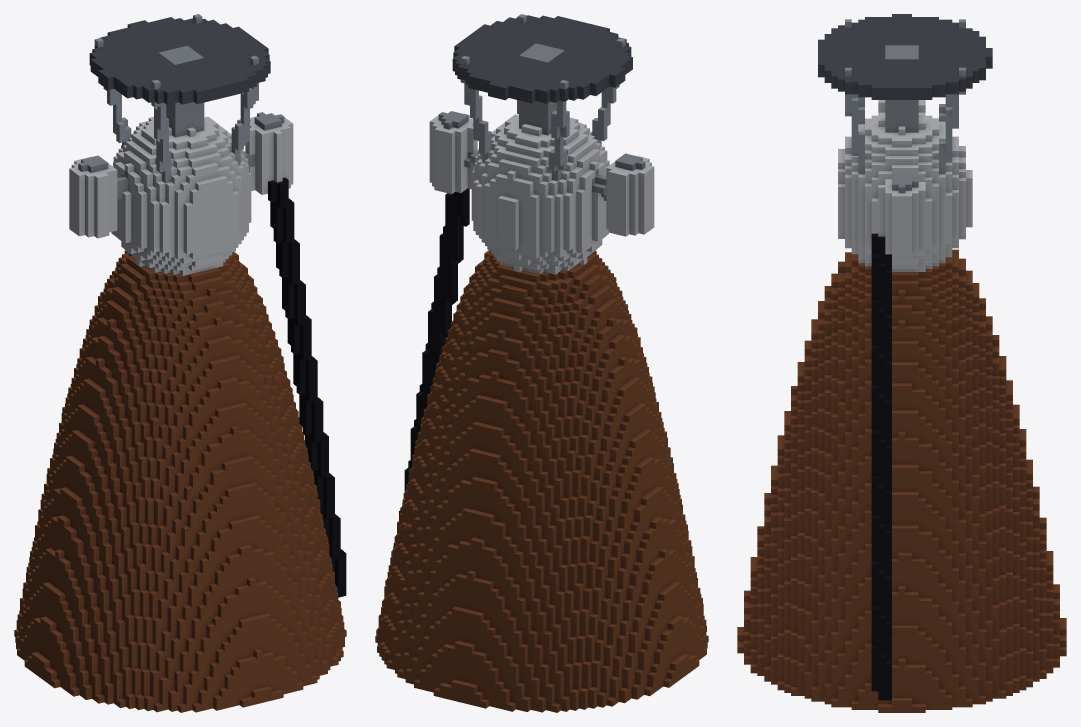
File: eng_hidra_68.glb
The picture shows the model from 3 angles, left to right: view 1: azimuth 30°, elevation 25°; view 2: azimuth 150°, elevation 25°; view 3: azimuth 270°, elevation 25°; orthographic projection.
Visible parts, largest first — view 1: eng_hidra_68; view 2: eng_hidra_68; view 3: eng_hidra_68.
Part boxes in pixels (box(x1,y1,x2,y2)): eng_hidra_68: box(14, 14, 346, 712); eng_hidra_68: box(375, 14, 708, 712); eng_hidra_68: box(737, 14, 1066, 712).
Bounding box in the file's own units: 2.55 × 4.9 × 2.45.
